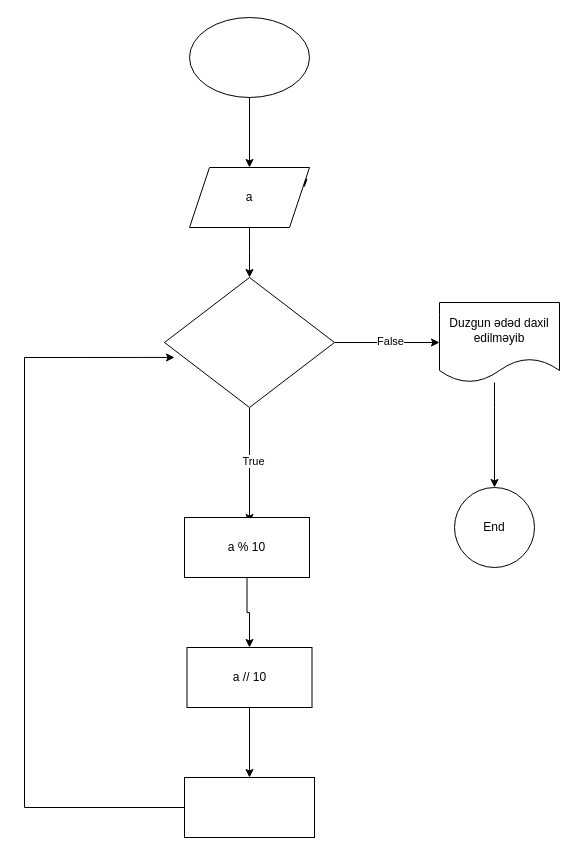
The diagram is 577 pixels wide and 855 high, and some of its shapes have lost their labels. Each missing label, with the centre of its shape:
"a ++" goes at point (249, 807).
"a > 10" goes at point (249, 342).
"Start" goes at point (249, 57).
